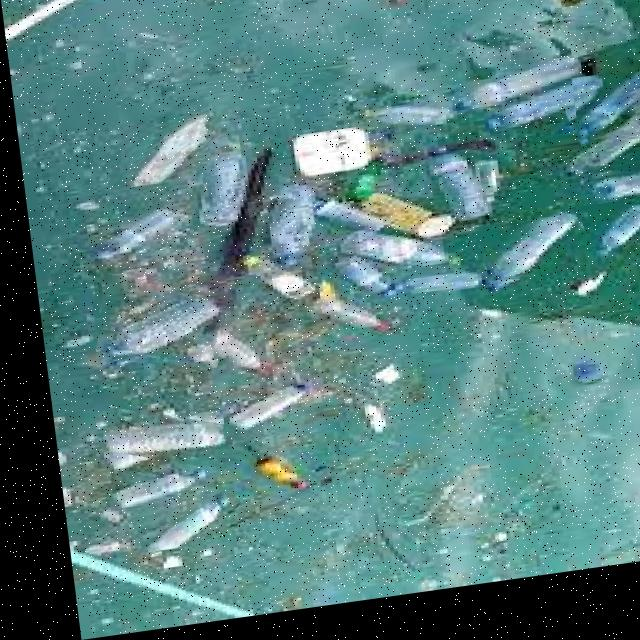plasticbottle: (83, 272, 222, 377), (87, 403, 228, 480), (97, 118, 226, 193), (465, 228, 581, 305), (111, 498, 230, 556), (208, 383, 303, 447), (453, 73, 576, 121), (572, 90, 640, 158), (571, 175, 640, 222)
